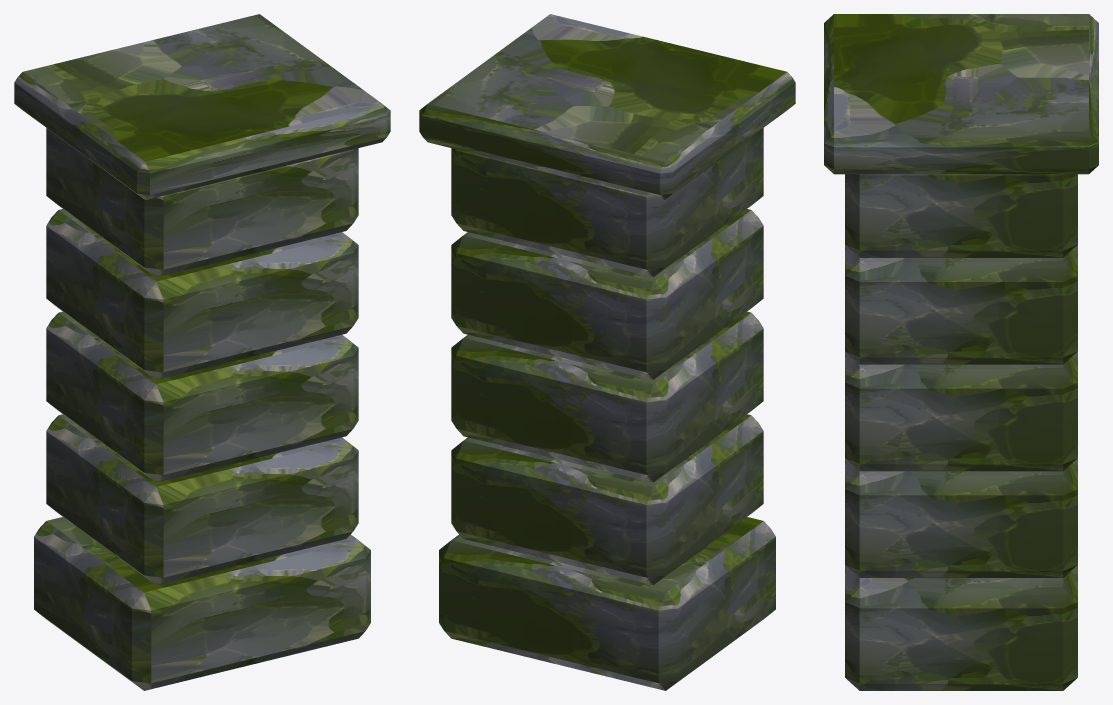
File: Arch_Pier.glb
3 views of the same model, side by side, from view 1: azimuth 30°, elevation 25°; view 2: azimuth 150°, elevation 25°; view 3: azimuth 270°, elevation 25° (orthographic). The views are drawn at different scales.
Parts seen in each view (by area): view 1: Arch_Pier__立方体.005, Arch_Pier__立方体, Arch_Pier__立方体.001, Arch_Pier__立方体.002, Arch_Pier__立方体.003, Arch_Pier__立方体.004; view 2: Arch_Pier__立方体.005, Arch_Pier__立方体, Arch_Pier__立方体.001, Arch_Pier__立方体.002, Arch_Pier__立方体.003, Arch_Pier__立方体.004; view 3: Arch_Pier__立方体.005, Arch_Pier__立方体, Arch_Pier__立方体.002, Arch_Pier__立方体.001, Arch_Pier__立方体.003, Arch_Pier__立方体.004.
Boxes of the visible parts, <box> form: Arch_Pier__立方体.005: <box>14,14,390,199</box>; Arch_Pier__立方体: <box>34,517,370,690</box>; Arch_Pier__立方体.001: <box>46,414,358,585</box>; Arch_Pier__立方体.002: <box>46,311,358,482</box>; Arch_Pier__立方体.003: <box>46,209,358,379</box>; Arch_Pier__立方体.004: <box>46,128,358,277</box>; Arch_Pier__立方体.005: <box>419,14,795,199</box>; Arch_Pier__立方体: <box>439,517,775,690</box>; Arch_Pier__立方体.001: <box>451,414,763,585</box>; Arch_Pier__立方体.002: <box>451,311,763,482</box>; Arch_Pier__立方体.003: <box>451,209,763,379</box>; Arch_Pier__立方体.004: <box>451,128,763,277</box>; Arch_Pier__立方体.005: <box>824,14,1098,174</box>; Arch_Pier__立方体: <box>845,565,1077,690</box>; Arch_Pier__立方体.002: <box>845,351,1077,471</box>; Arch_Pier__立方体.001: <box>845,458,1077,577</box>; Arch_Pier__立方体.003: <box>845,245,1077,364</box>; Arch_Pier__立方体.004: <box>845,174,1077,257</box>.
Bounding box in the file's own units: 1.24 × 2.53 × 1.12.
1 material, 1 textured.
